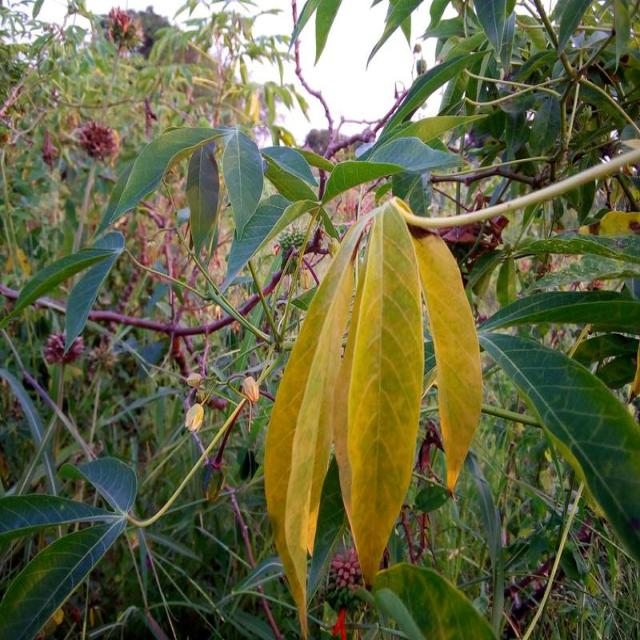cassava leaf: (264, 194, 482, 636), (264, 204, 374, 638), (475, 329, 639, 563), (332, 196, 424, 588)
